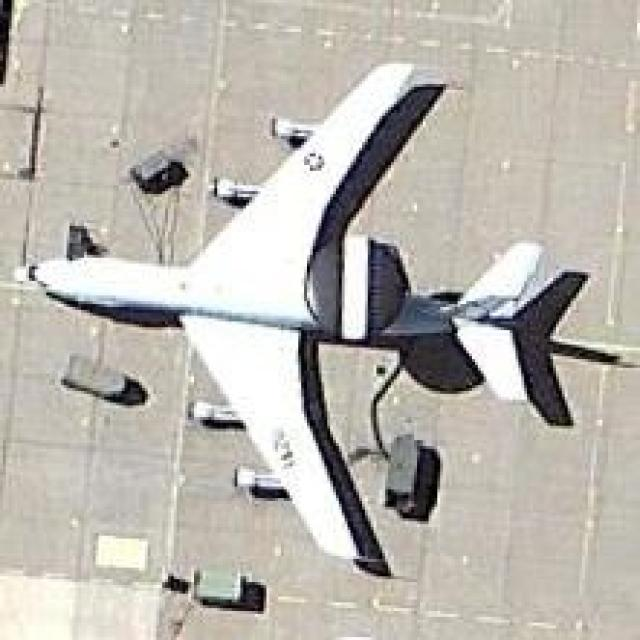E-3_TopDown: (15, 58, 637, 579)
